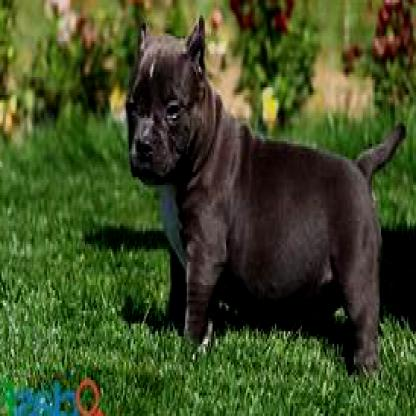dog: (124, 15, 407, 364)
